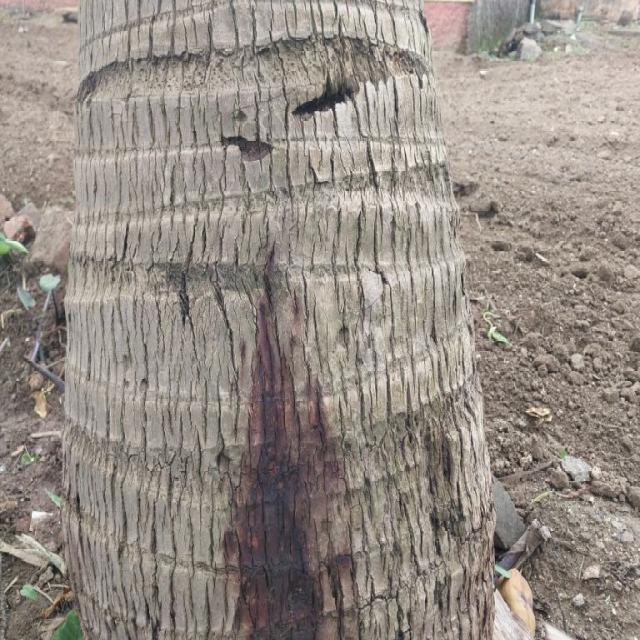stembleeding: (178, 256, 382, 640)
